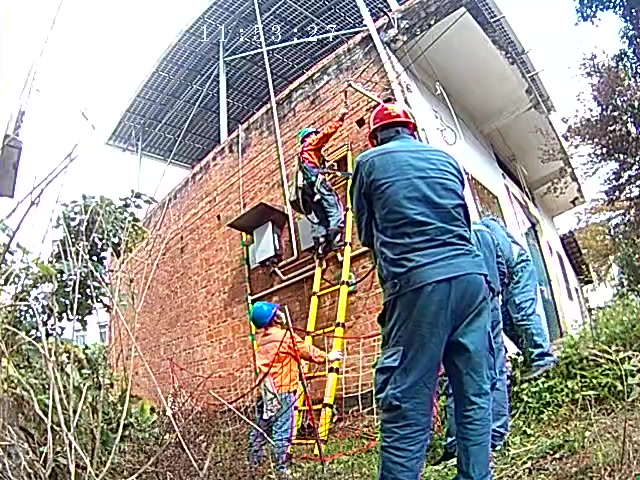halt: (368, 100, 421, 148), (254, 304, 284, 331), (300, 131, 320, 149)
